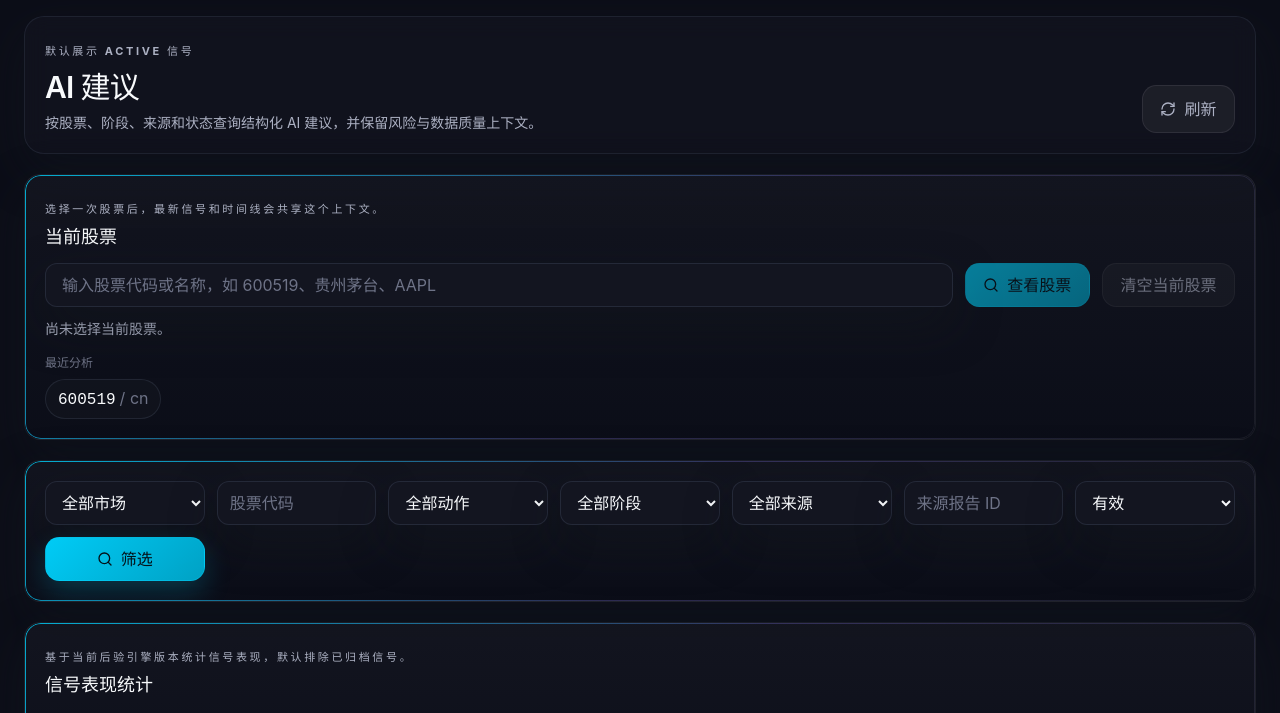
Test: DecisionSignalsPage › uses autocomplete metadata for the active context instead of the old draft value
The width and height of the screenshot is (1280, 713).
In the dropdown named "当前股票": [499, 285] box x1=45 y1=263 x2=953 y2=307, type "6005"
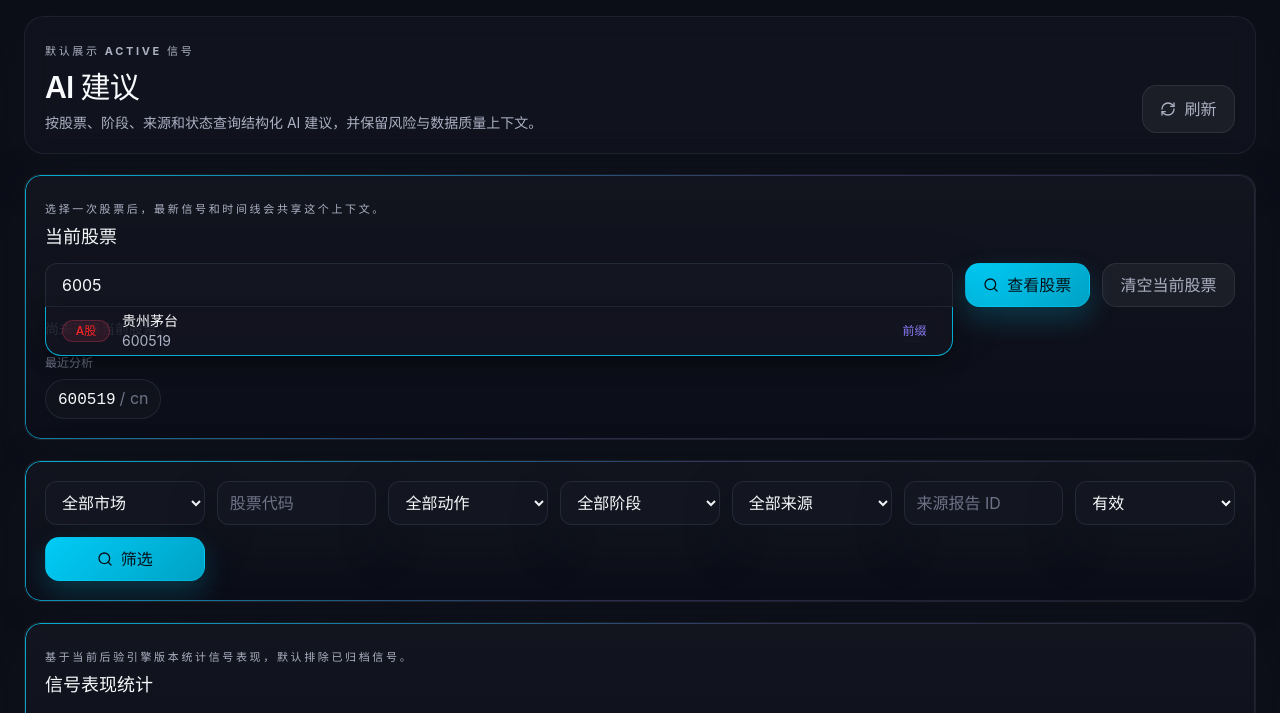
Click the option "A股 贵州茅台 600519 前缀": [86, 331] box x1=46 y1=307 x2=952 y2=355
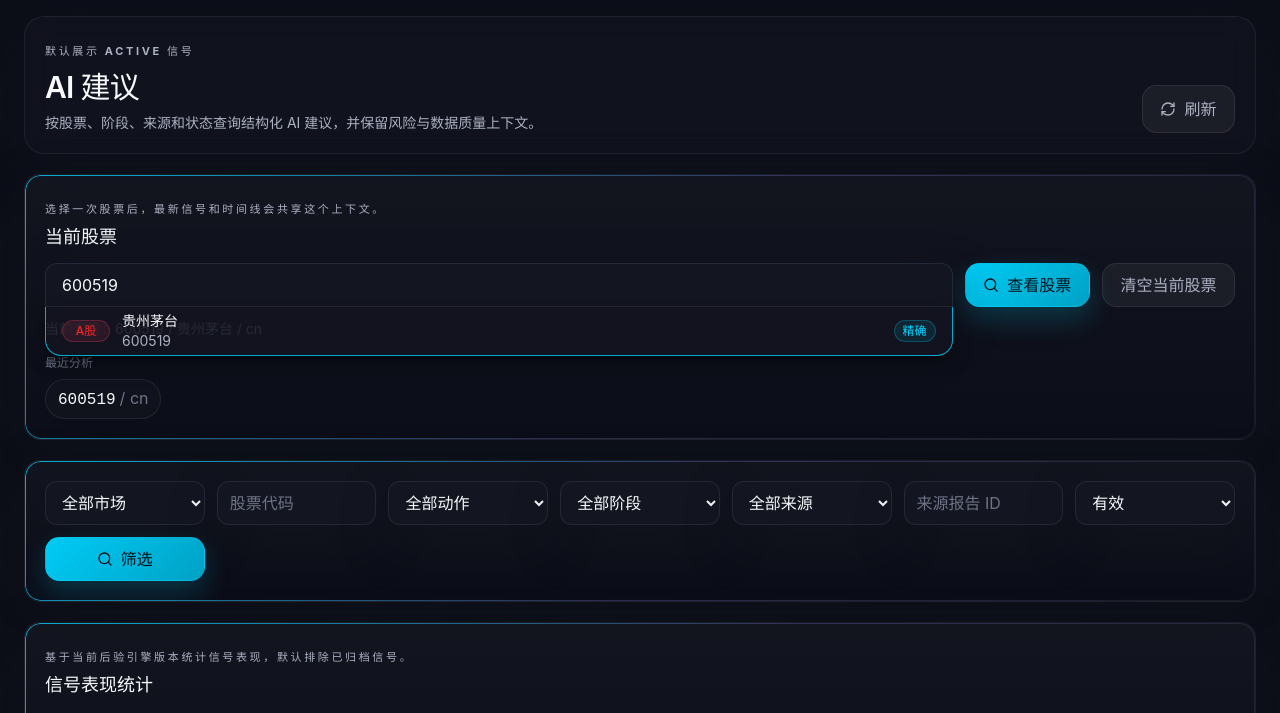
Check: the text "当前查看：600519 / 贵州茅台 / cn" is shown, box x1=45 y1=320 x2=262 y2=337
Check: the dropdown named "当前股票" holds "600519", box x1=45 y1=263 x2=953 y2=307
